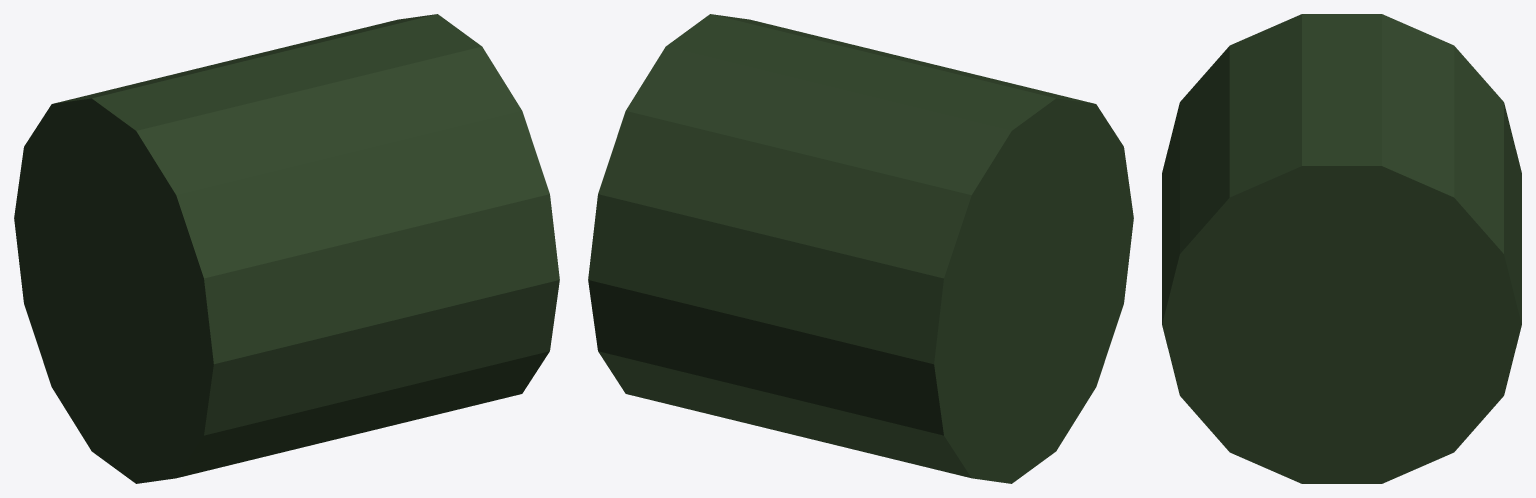
The model's file is GREEN FINISHED TANK LONE BARREL CYLL 3.fbx.
3 views of the same model, side by side, from view 1: azimuth 30°, elevation 25°; view 2: azimuth 150°, elevation 25°; view 3: azimuth 270°, elevation 25° (orthographic). The views are drawn at different scales.
Visible parts, largest first — view 1: Cylinder.001; view 2: Cylinder.001; view 3: Cylinder.001.
Boxes of the visible parts, box(x1,y1,x2,y2) form: Cylinder.001: box(14, 14, 559, 483); Cylinder.001: box(588, 14, 1133, 483); Cylinder.001: box(1162, 14, 1521, 483).
Size of the model in its own units: 71.47 by 69.68 by 71.47.
